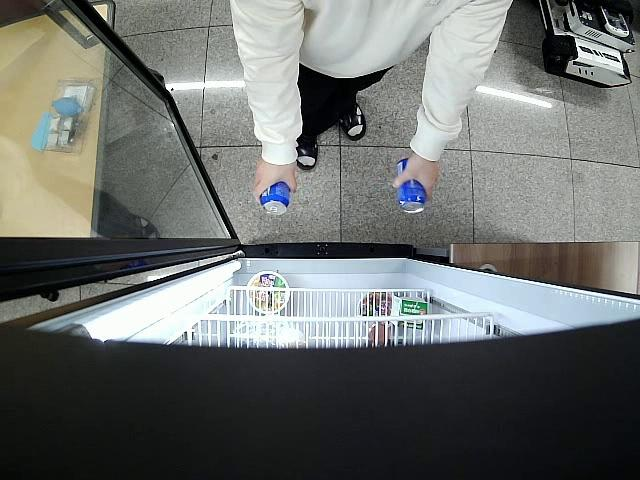00_hand: (391, 155, 437, 201), (252, 160, 296, 205)
13_pocariSweat: (396, 156, 427, 216), (261, 181, 291, 214)
